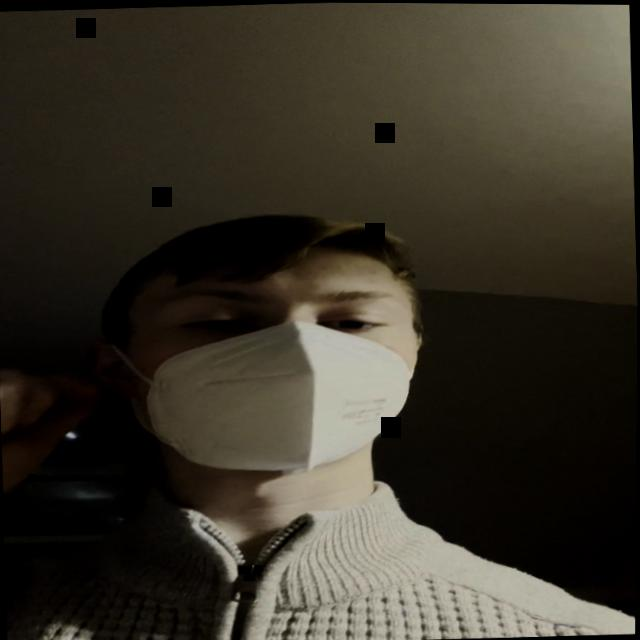Mask: (83, 186, 459, 536)
